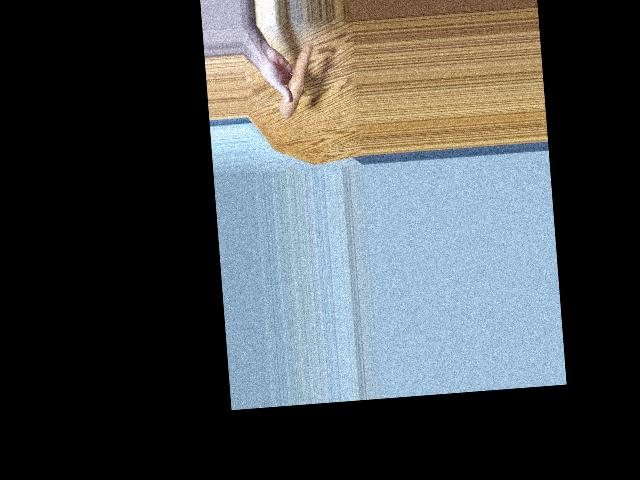sweet_potato: (283, 43, 312, 121)
